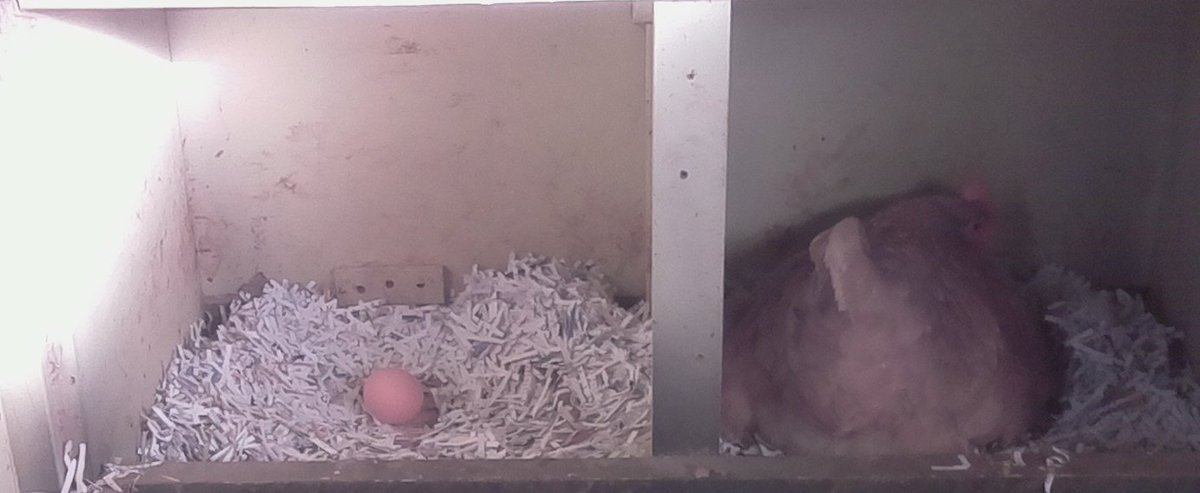egg: (355, 359, 430, 433)
hen: (718, 179, 1077, 447)
